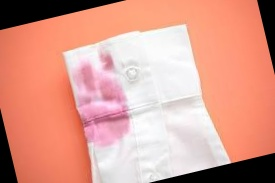wine: (68, 47, 138, 151)
